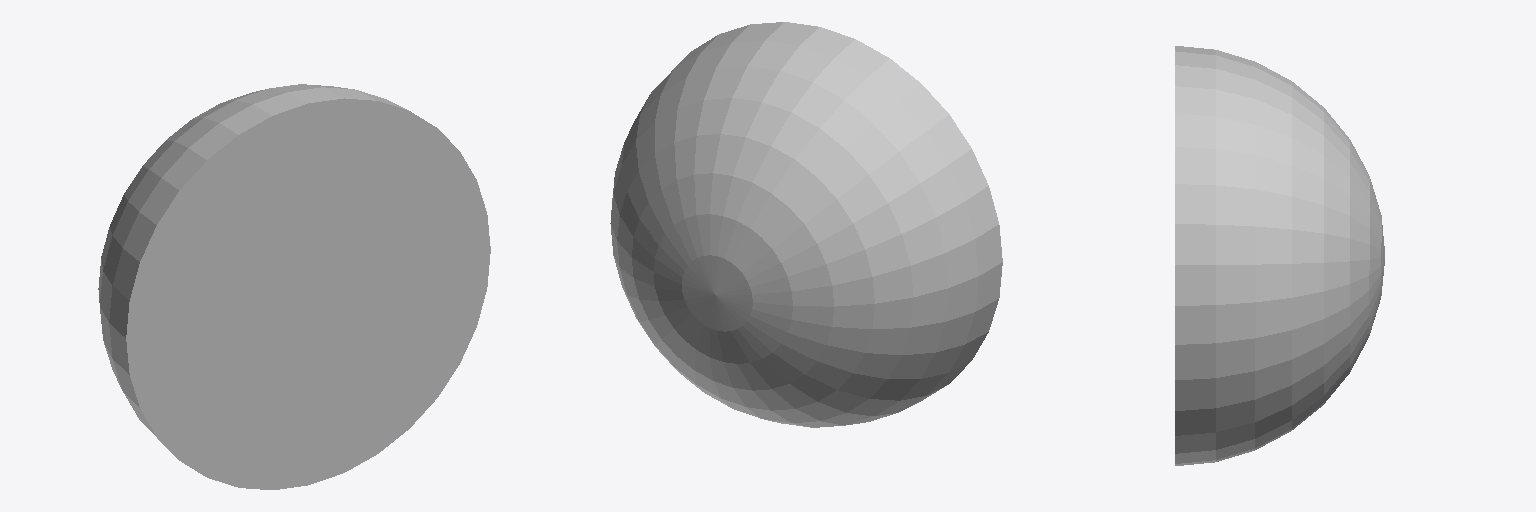
The model's file is leftHalf.obj.
3 views of the same model, side by side, from view 1: azimuth 30°, elevation 25°; view 2: azimuth 150°, elevation 25°; view 3: azimuth 270°, elevation 25° (orthographic).
Size of the model in its own units: 2 by 2 by 1.